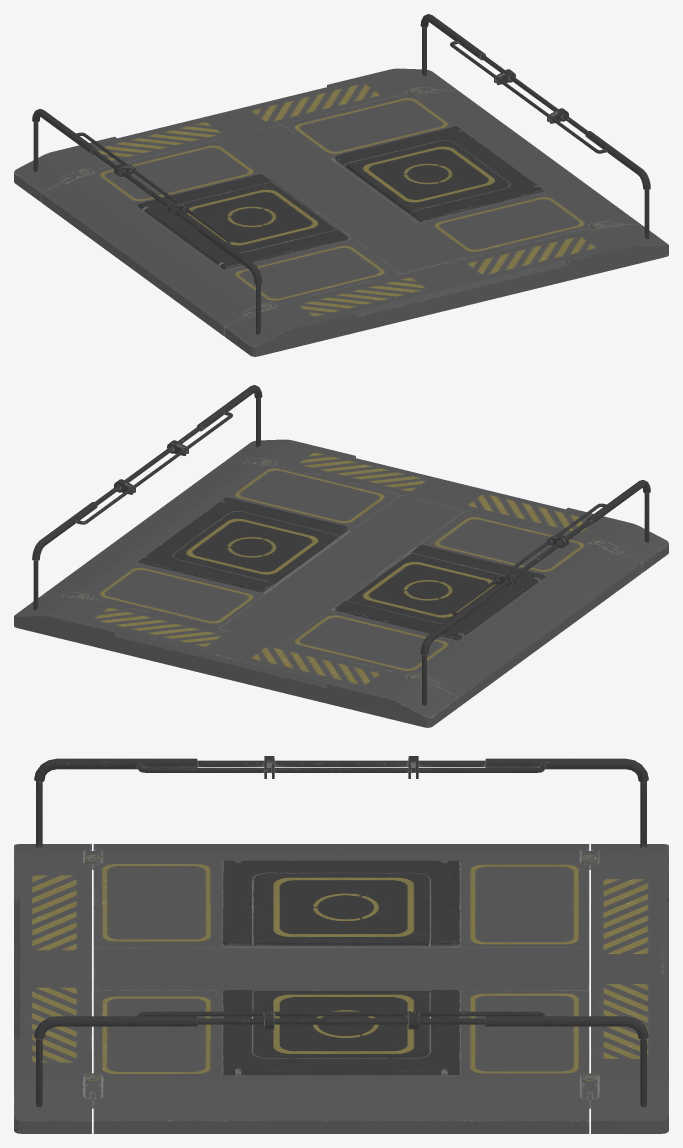
The model's file is floor042-opt.glb.
3 views of the same model, one above another, from view 1: azimuth 30°, elevation 25°; view 2: azimuth 150°, elevation 25°; view 3: azimuth 270°, elevation 25° (orthographic). The views are drawn at different scales.
Visible parts, largest first — view 1: Cube.042; view 2: Cube.042; view 3: Cube.042.
Boxes of the visible parts, bbox=[...] form: Cube.042: bbox=[14, 14, 668, 356]; Cube.042: bbox=[14, 385, 668, 727]; Cube.042: bbox=[14, 756, 668, 1133].
Bounding box in the file's own units: 3.13 × 0.5799 × 3.13.
1 material, 1 textured.
